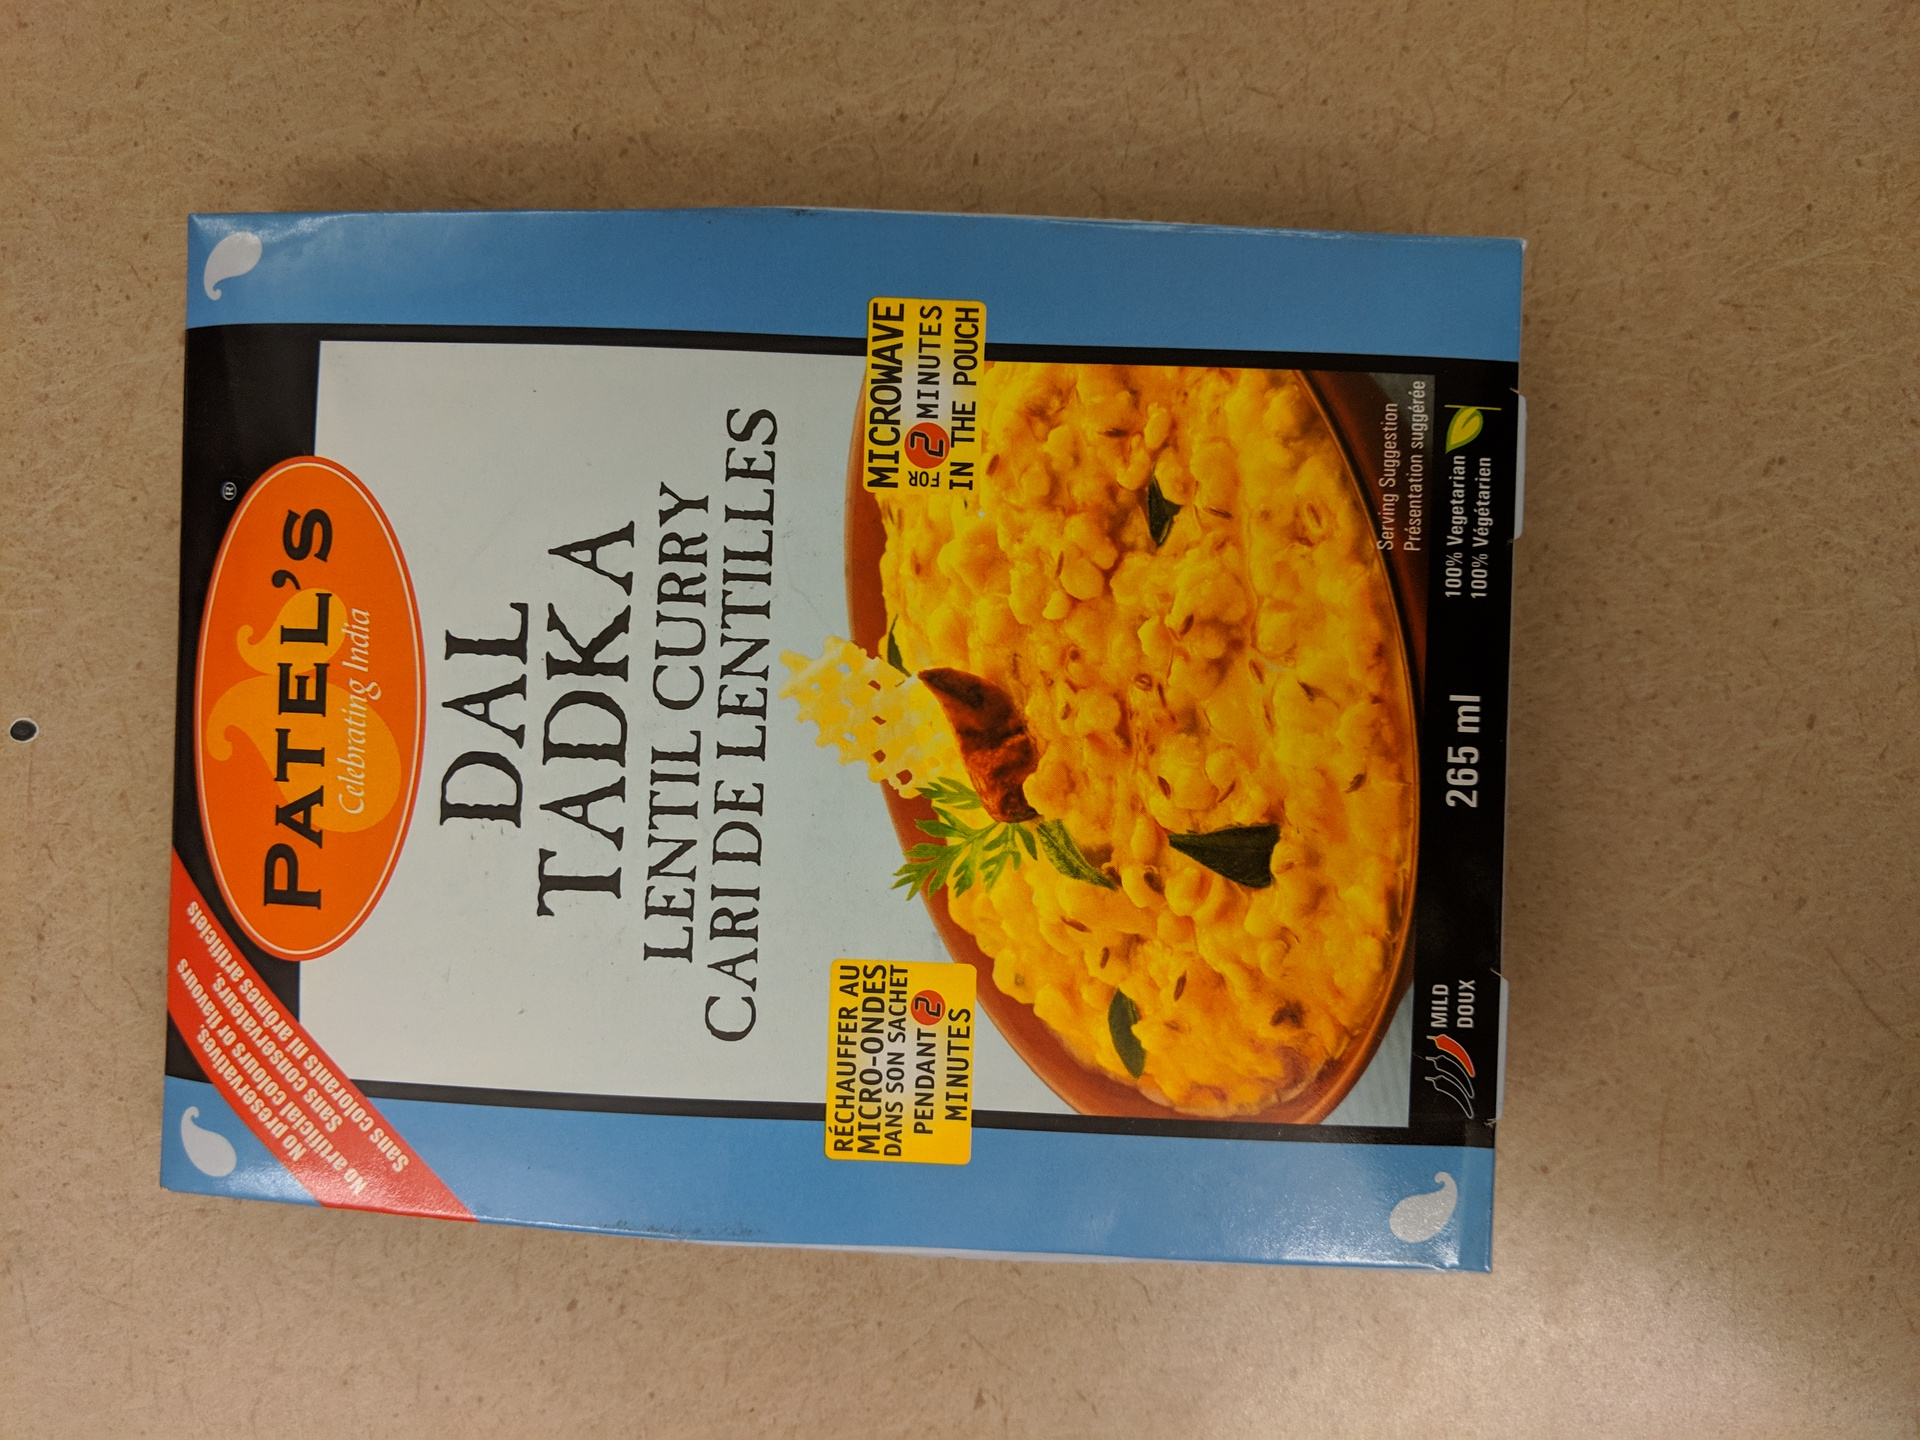patels_dal_tadka_lentil_curry: (144, 191, 1544, 1290)
